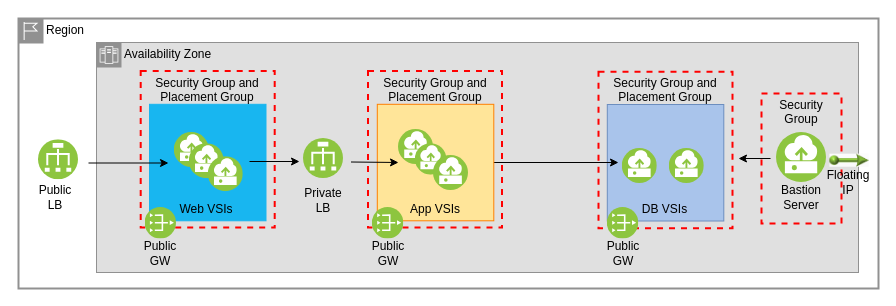
Some shapes in this 896 by 306 pixel diagram are drawn without their labels. The box of each missing label's shape, as (x1, y1, x2, y2) in pixels:
App Subnet AZ1: (376, 103, 494, 221)
DB Subnet AZ1: (606, 104, 724, 221)
Web Subnet AZ1: (148, 103, 266, 221)
